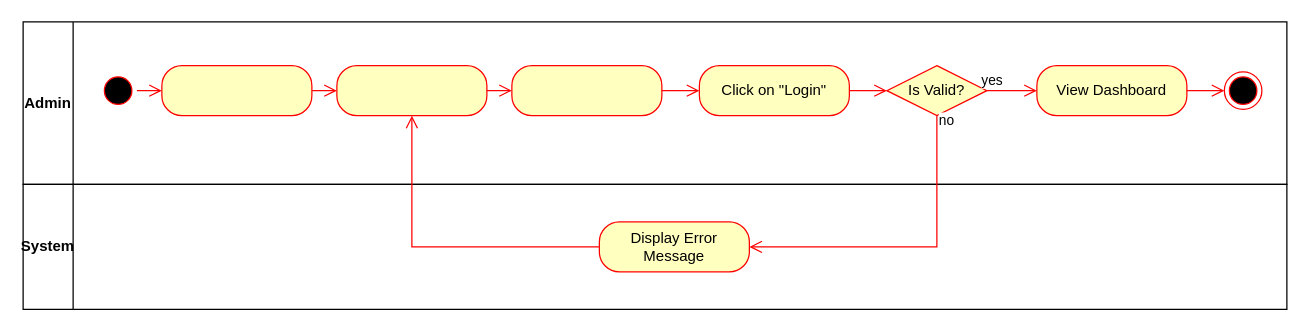
This 1309x333 diagram has some shape labels left out. Each missing label, with the centre of its shape:
"Enter Login Info" belongs at (x=586, y=90).
"Open Web Application" belongs at (x=236, y=90).
"View Login Page" belongs at (x=411, y=90).
